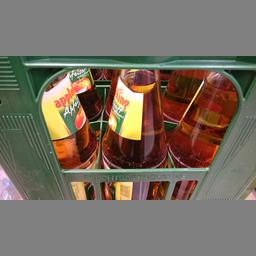juice: (162, 70, 236, 196), (26, 68, 96, 198), (100, 68, 166, 196)
